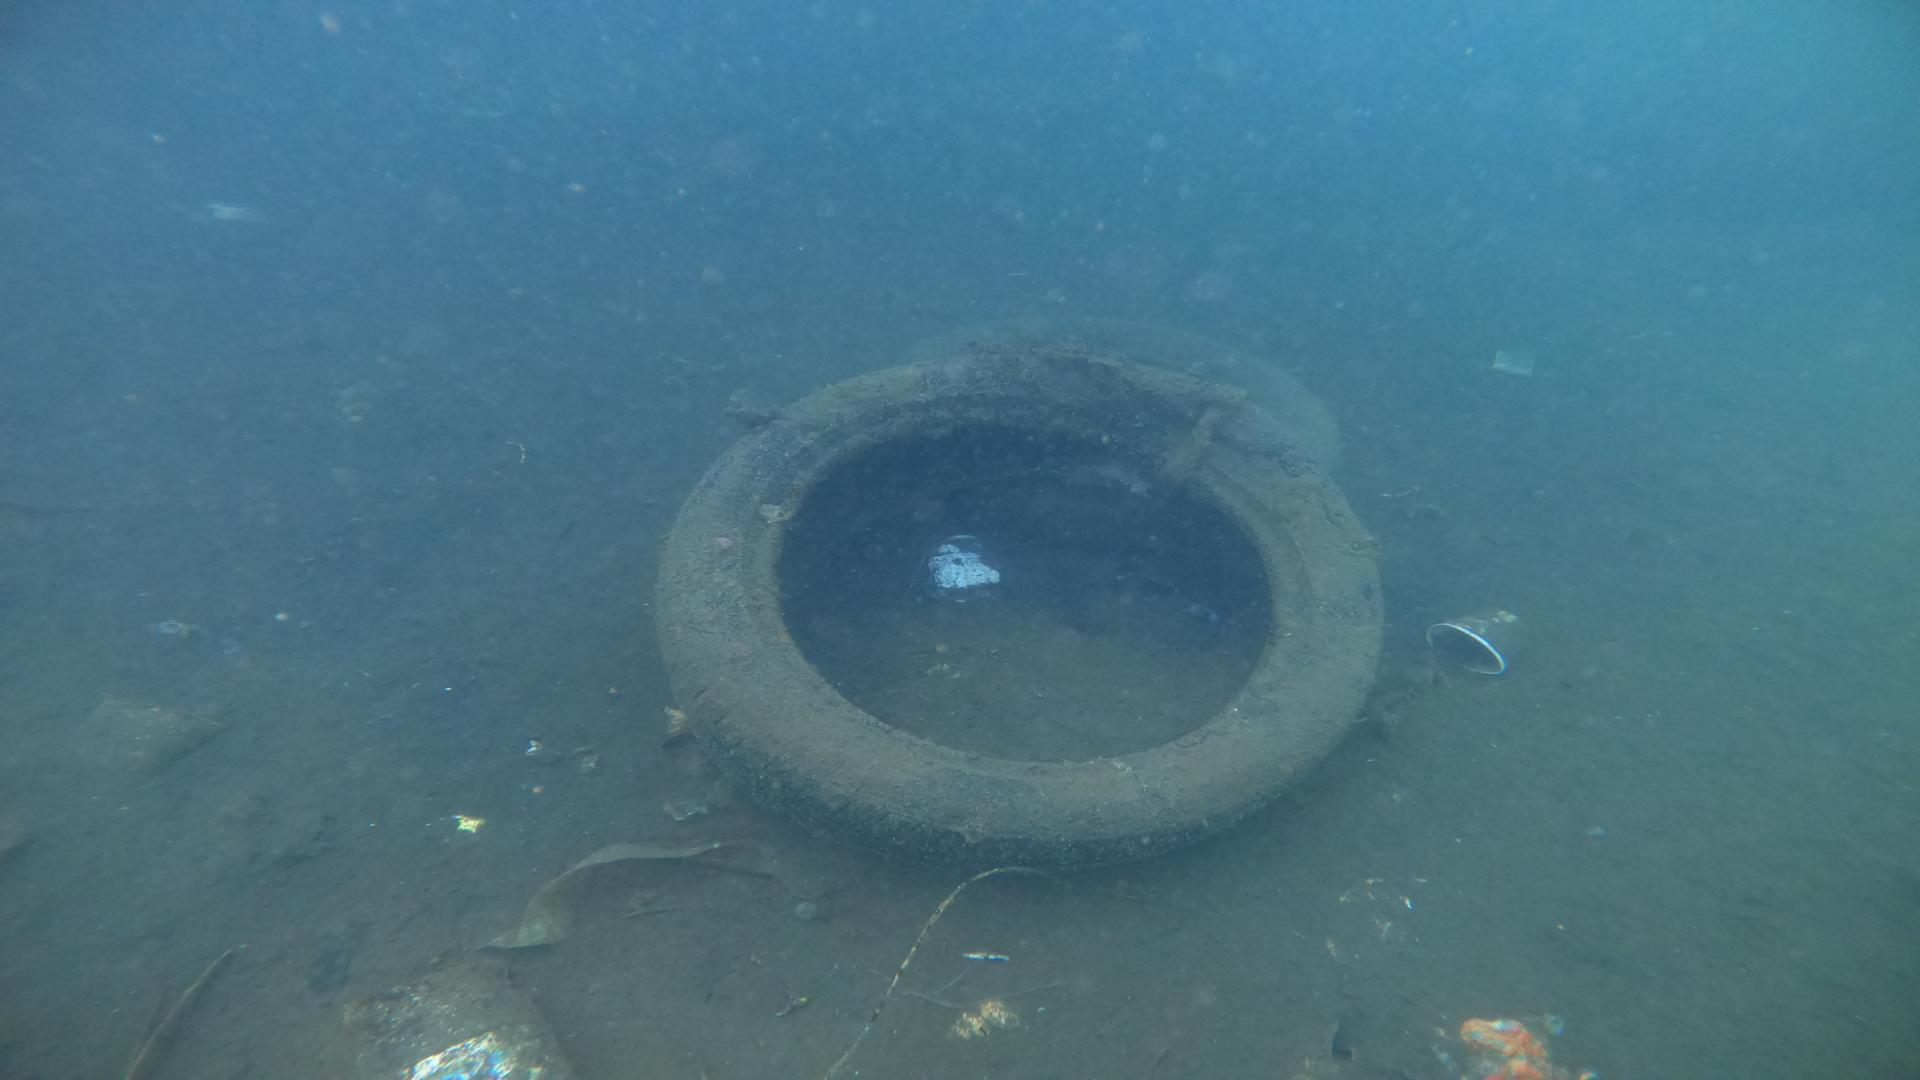tire: (654, 334, 1393, 877)
